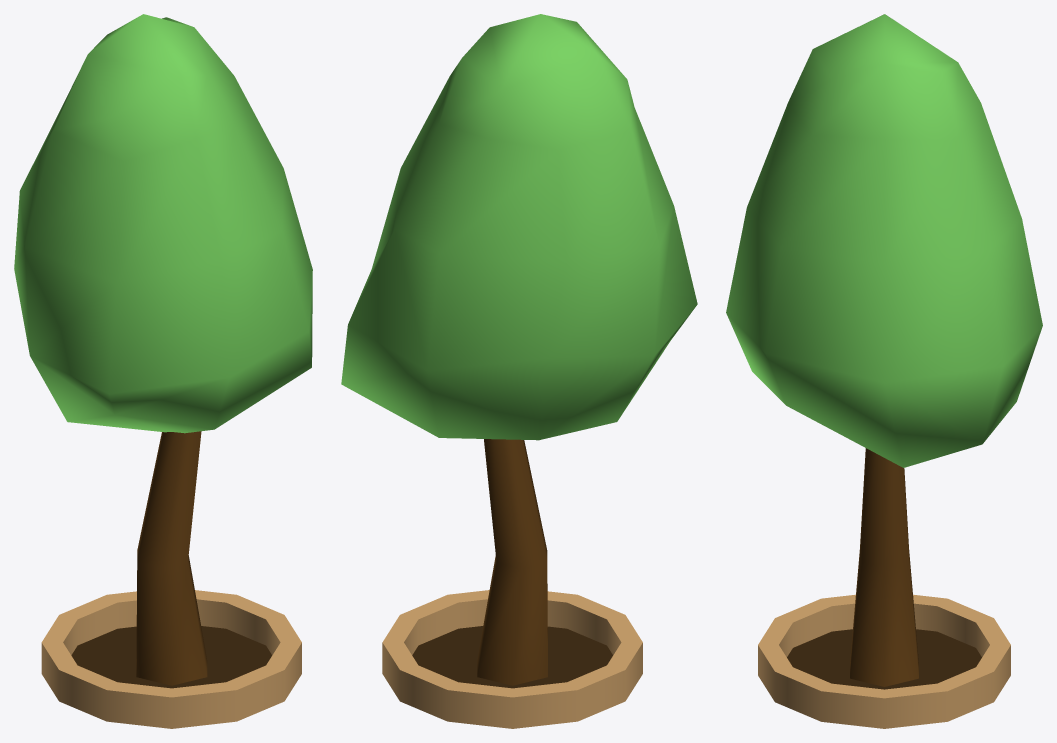
Rendered from trees_1.fbx.
3 views of the same model, side by side, from view 1: azimuth 30°, elevation 25°; view 2: azimuth 150°, elevation 25°; view 3: azimuth 270°, elevation 25° (orthographic). The views are drawn at different scales.
Parts seen in each view (by area): view 1: trees_1; view 2: trees_1; view 3: trees_1.
Part boxes in pixels (left/top/right/bottom): trees_1: left=14, top=14, right=312, bottom=728; trees_1: left=341, top=14, right=697, bottom=728; trees_1: left=726, top=14, right=1042, bottom=728.
Bounding box in the file's own units: 135 × 299 × 132.
1 material, 1 textured.
